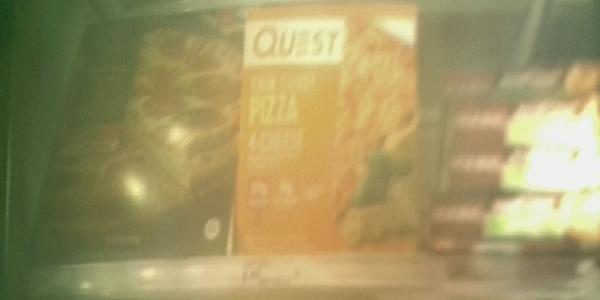pizza1: (37, 1, 234, 259), (239, 1, 422, 254)
pizza2: (443, 148, 600, 197), (440, 99, 600, 147), (436, 199, 600, 236), (438, 69, 594, 93)
